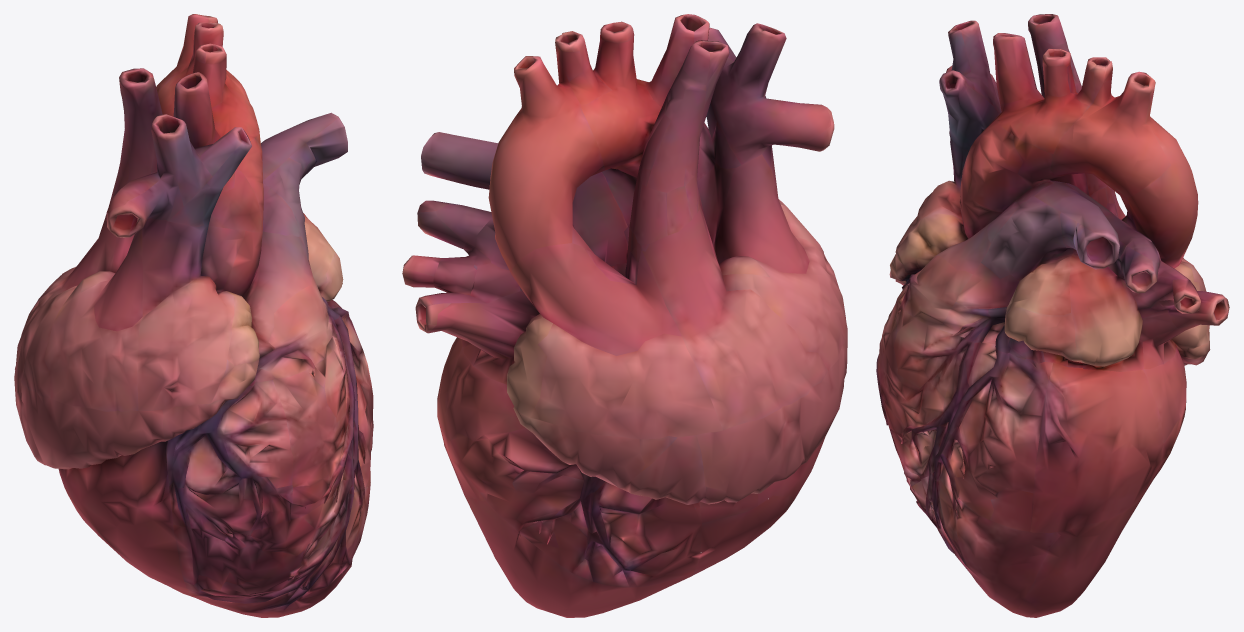
File: heart-lod2.glb
3 renders of one model, left to right at view 1: azimuth 30°, elevation 25°; view 2: azimuth 150°, elevation 25°; view 3: azimuth 270°, elevation 25°, orthographic. The views are drawn at different scales.
Visible parts, largest first — view 1: tripo_node_9c16954f-d29a-4a4b-baf4-ba02eda23201; view 2: tripo_node_9c16954f-d29a-4a4b-baf4-ba02eda23201; view 3: tripo_node_9c16954f-d29a-4a4b-baf4-ba02eda23201.
Part boxes in pixels (box(x1,y1,x2,y2)): tripo_node_9c16954f-d29a-4a4b-baf4-ba02eda23201: box(14, 14, 373, 617); tripo_node_9c16954f-d29a-4a4b-baf4-ba02eda23201: box(402, 14, 847, 617); tripo_node_9c16954f-d29a-4a4b-baf4-ba02eda23201: box(876, 14, 1229, 617).
Bounding box in the file's own units: 0.5962 × 0.98 × 0.584.
1 material, 1 textured.
